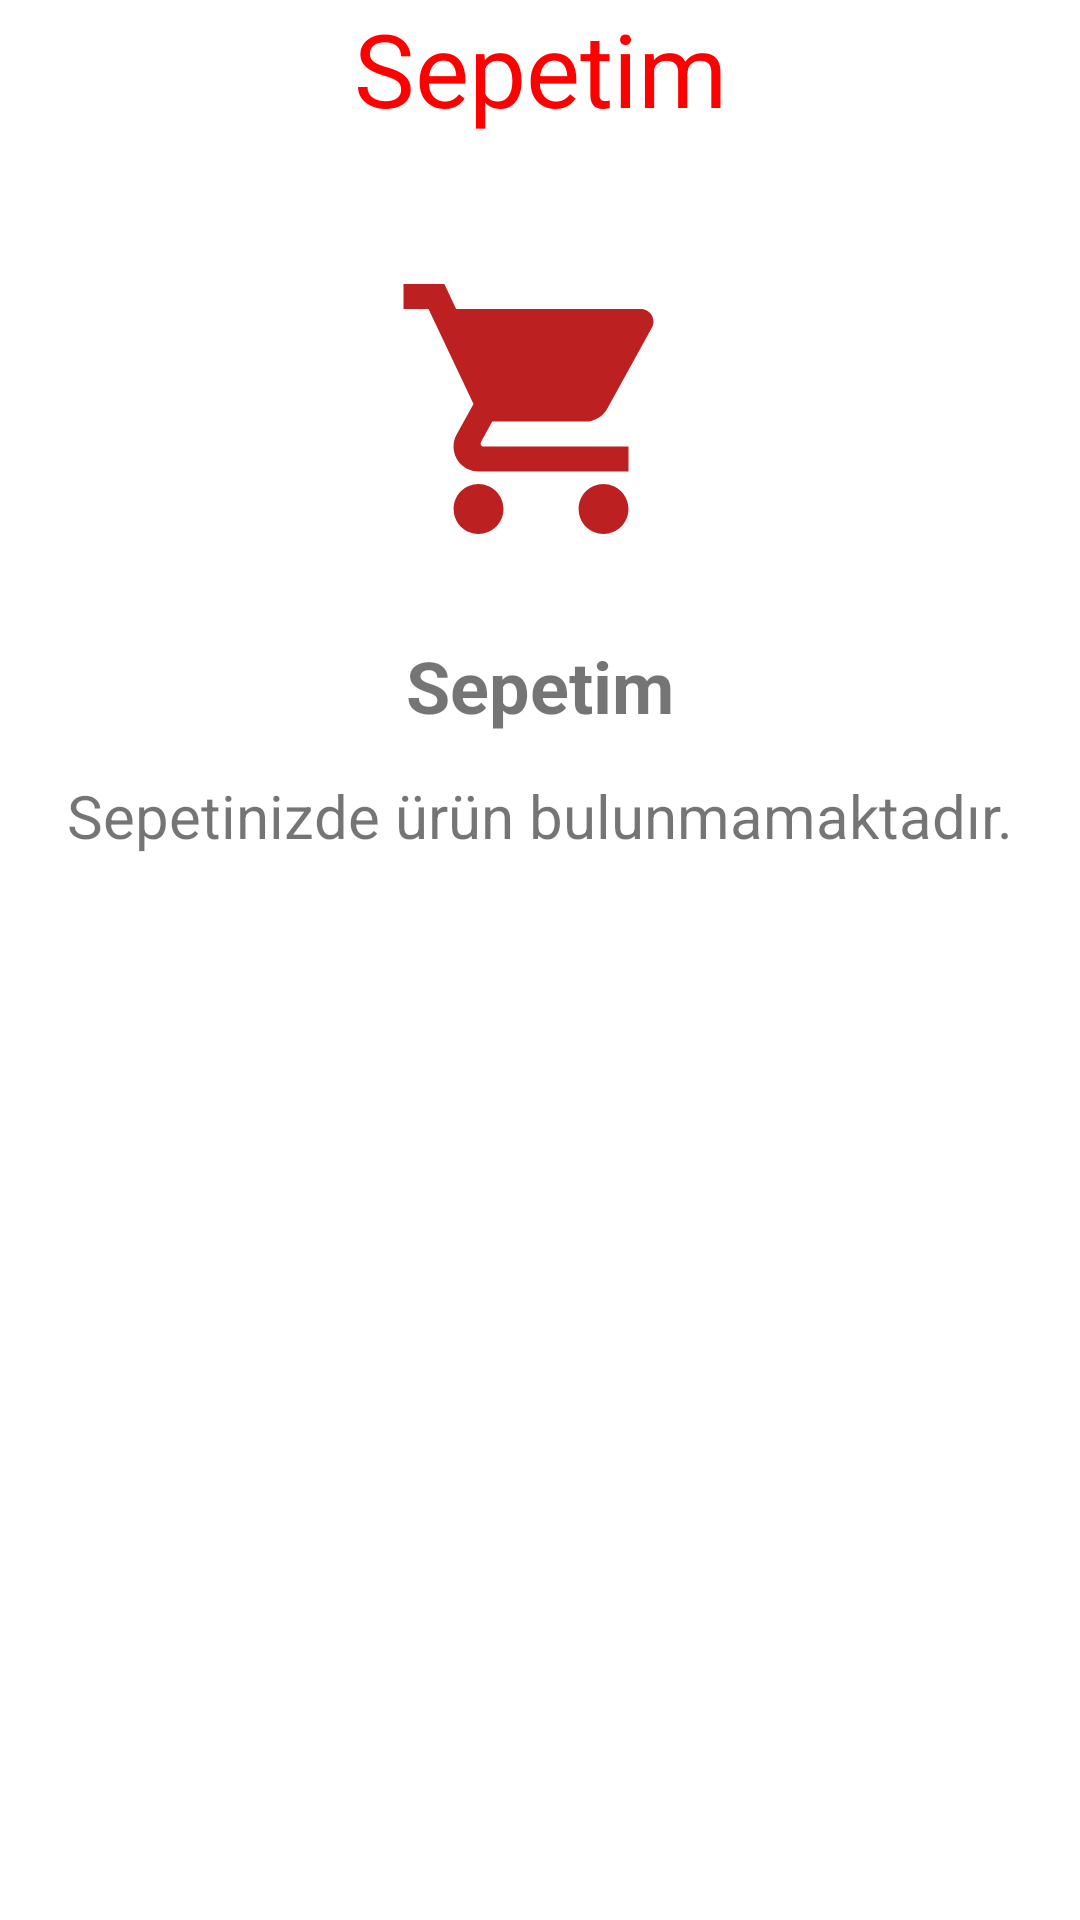

Icon bounding boxes for this 1080*1920 phone screenshot, format (x1, y1, x2, y2):
shopping cart: (403, 284, 654, 534)
